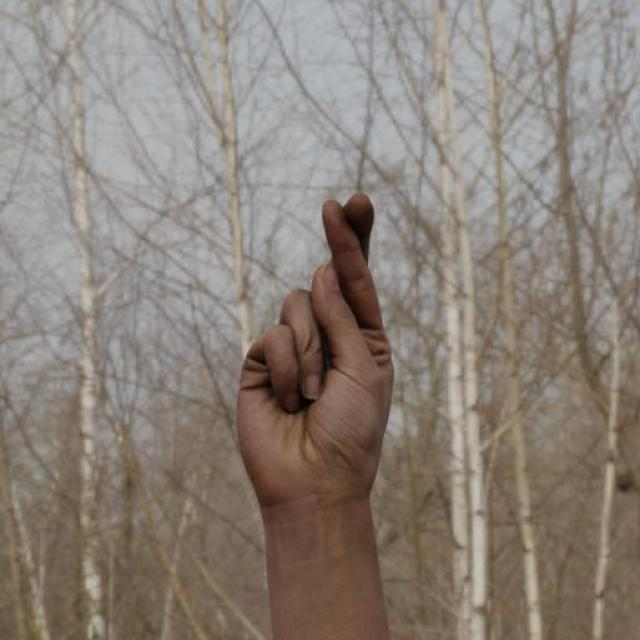R: (233, 186, 398, 512)
